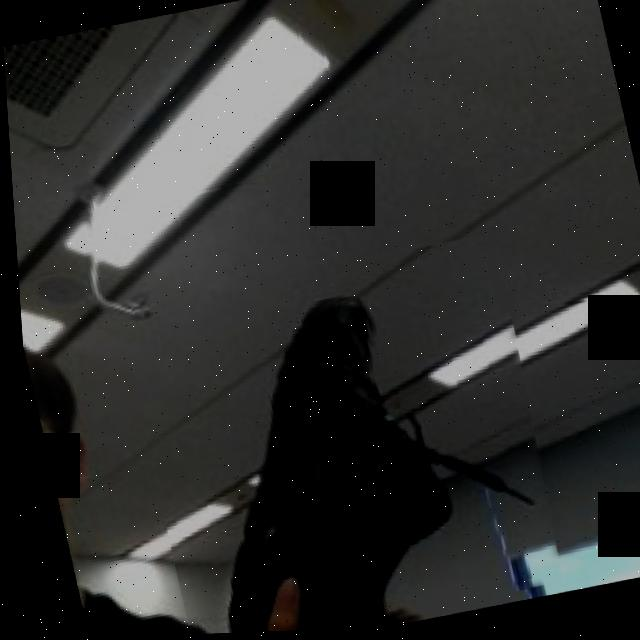shoe: (108, 234, 570, 637)
